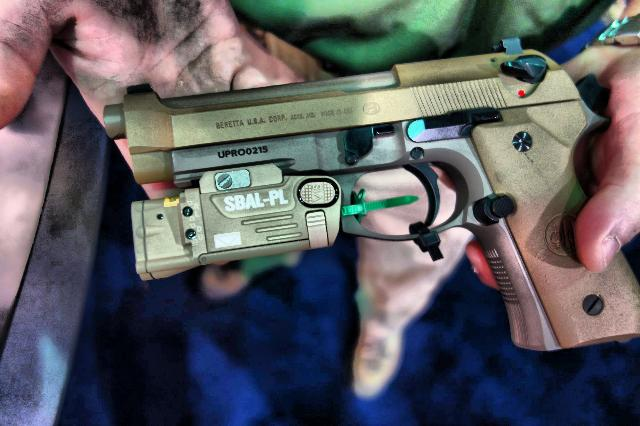pistol: (107, 34, 639, 354)
